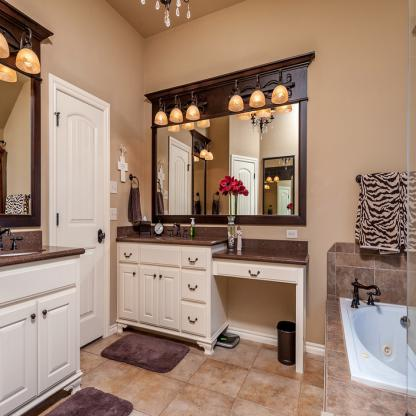door: (50, 86, 105, 348)
hinged: (57, 110, 59, 127), (57, 211, 59, 227)
knob: (100, 231, 106, 240)
